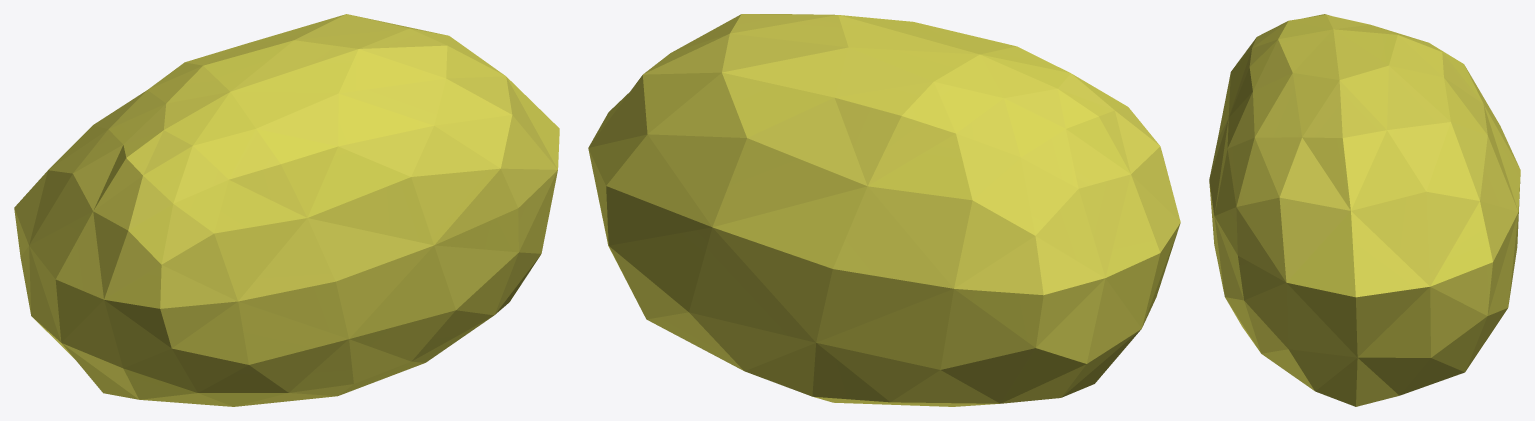
The model's file is bush4.fbx.
3 views of the same model, side by side, from view 1: azimuth 30°, elevation 25°; view 2: azimuth 150°, elevation 25°; view 3: azimuth 270°, elevation 25° (orthographic). The views are drawn at different scales.
Parts seen in each view (by area): view 1: Roundcube.007; view 2: Roundcube.007; view 3: Roundcube.007.
Part boxes in pixels (x1=…): Roundcube.007: x1=14, y1=14, x2=559, y2=406; Roundcube.007: x1=588, y1=14, x2=1180, y2=406; Roundcube.007: x1=1209, y1=14, x2=1520, y2=406.
Bounding box in the file's own units: 504 × 298 × 292.
